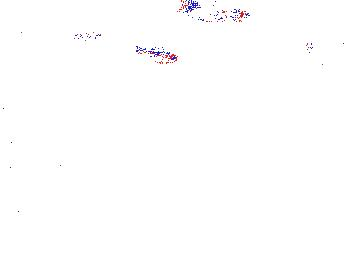X-ray fish: (315, 161, 338, 196)
red belly glassfish: (135, 45, 179, 69), (68, 28, 115, 45)
redtail glassfish: (177, 1, 252, 24), (301, 30, 346, 61)
